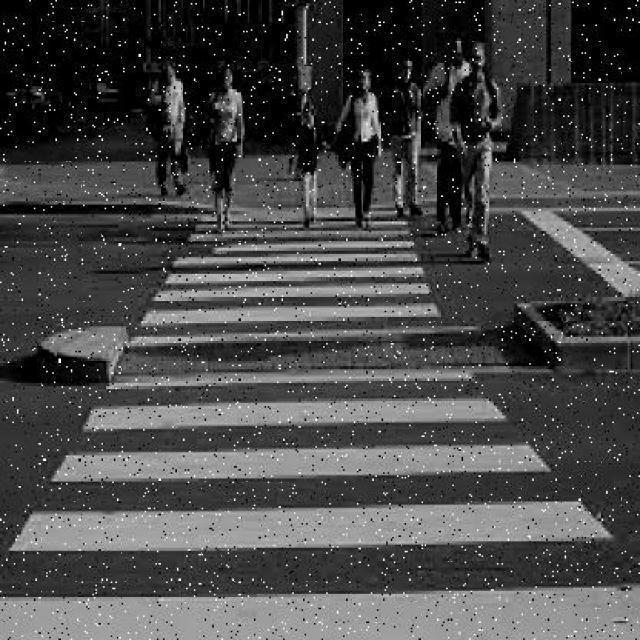crosswalk: (0, 210, 640, 640)
